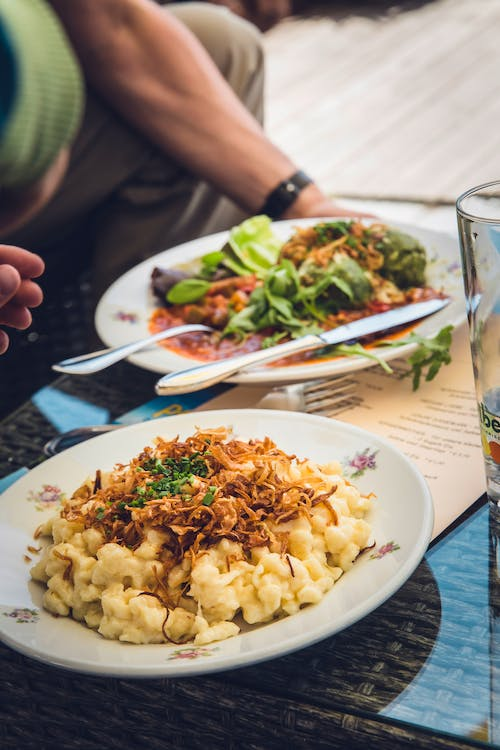knife: (151, 293, 457, 399)
